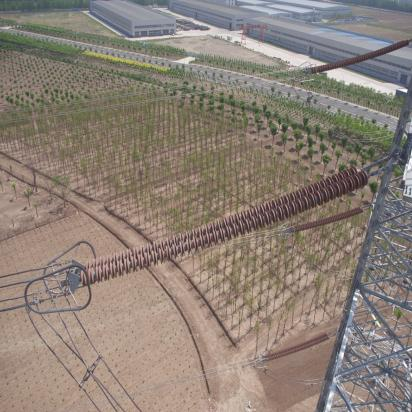insulator: (74, 162, 383, 290), (308, 37, 412, 76), (264, 331, 333, 363)
